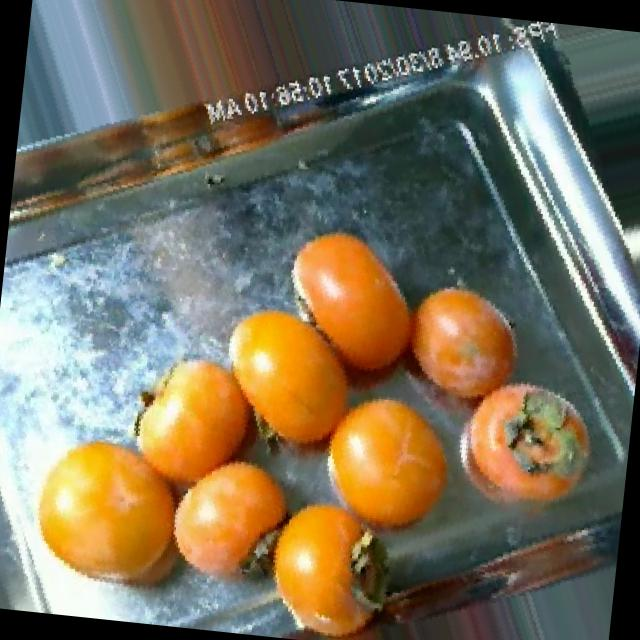Fruit: (0, 405, 234, 625), (290, 366, 480, 569), (364, 254, 548, 462), (426, 348, 614, 541), (104, 326, 289, 520), (265, 204, 435, 380), (147, 431, 307, 604), (241, 470, 393, 640)
